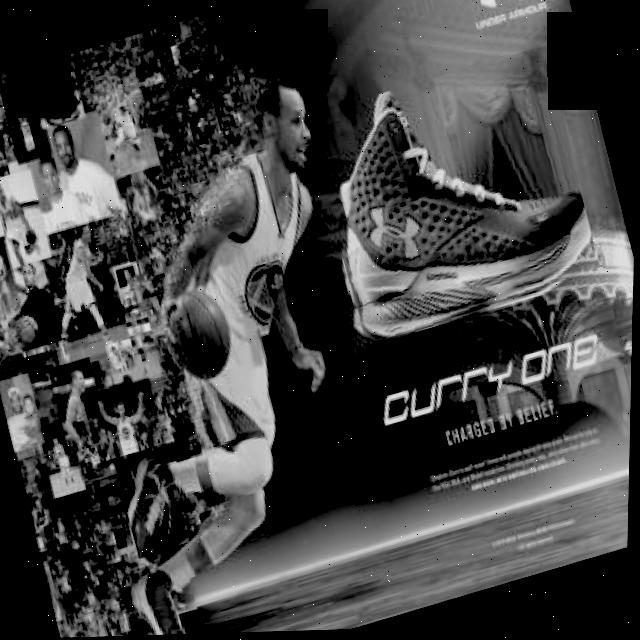shoe: (298, 47, 608, 354), (115, 444, 201, 560), (126, 559, 209, 637)
